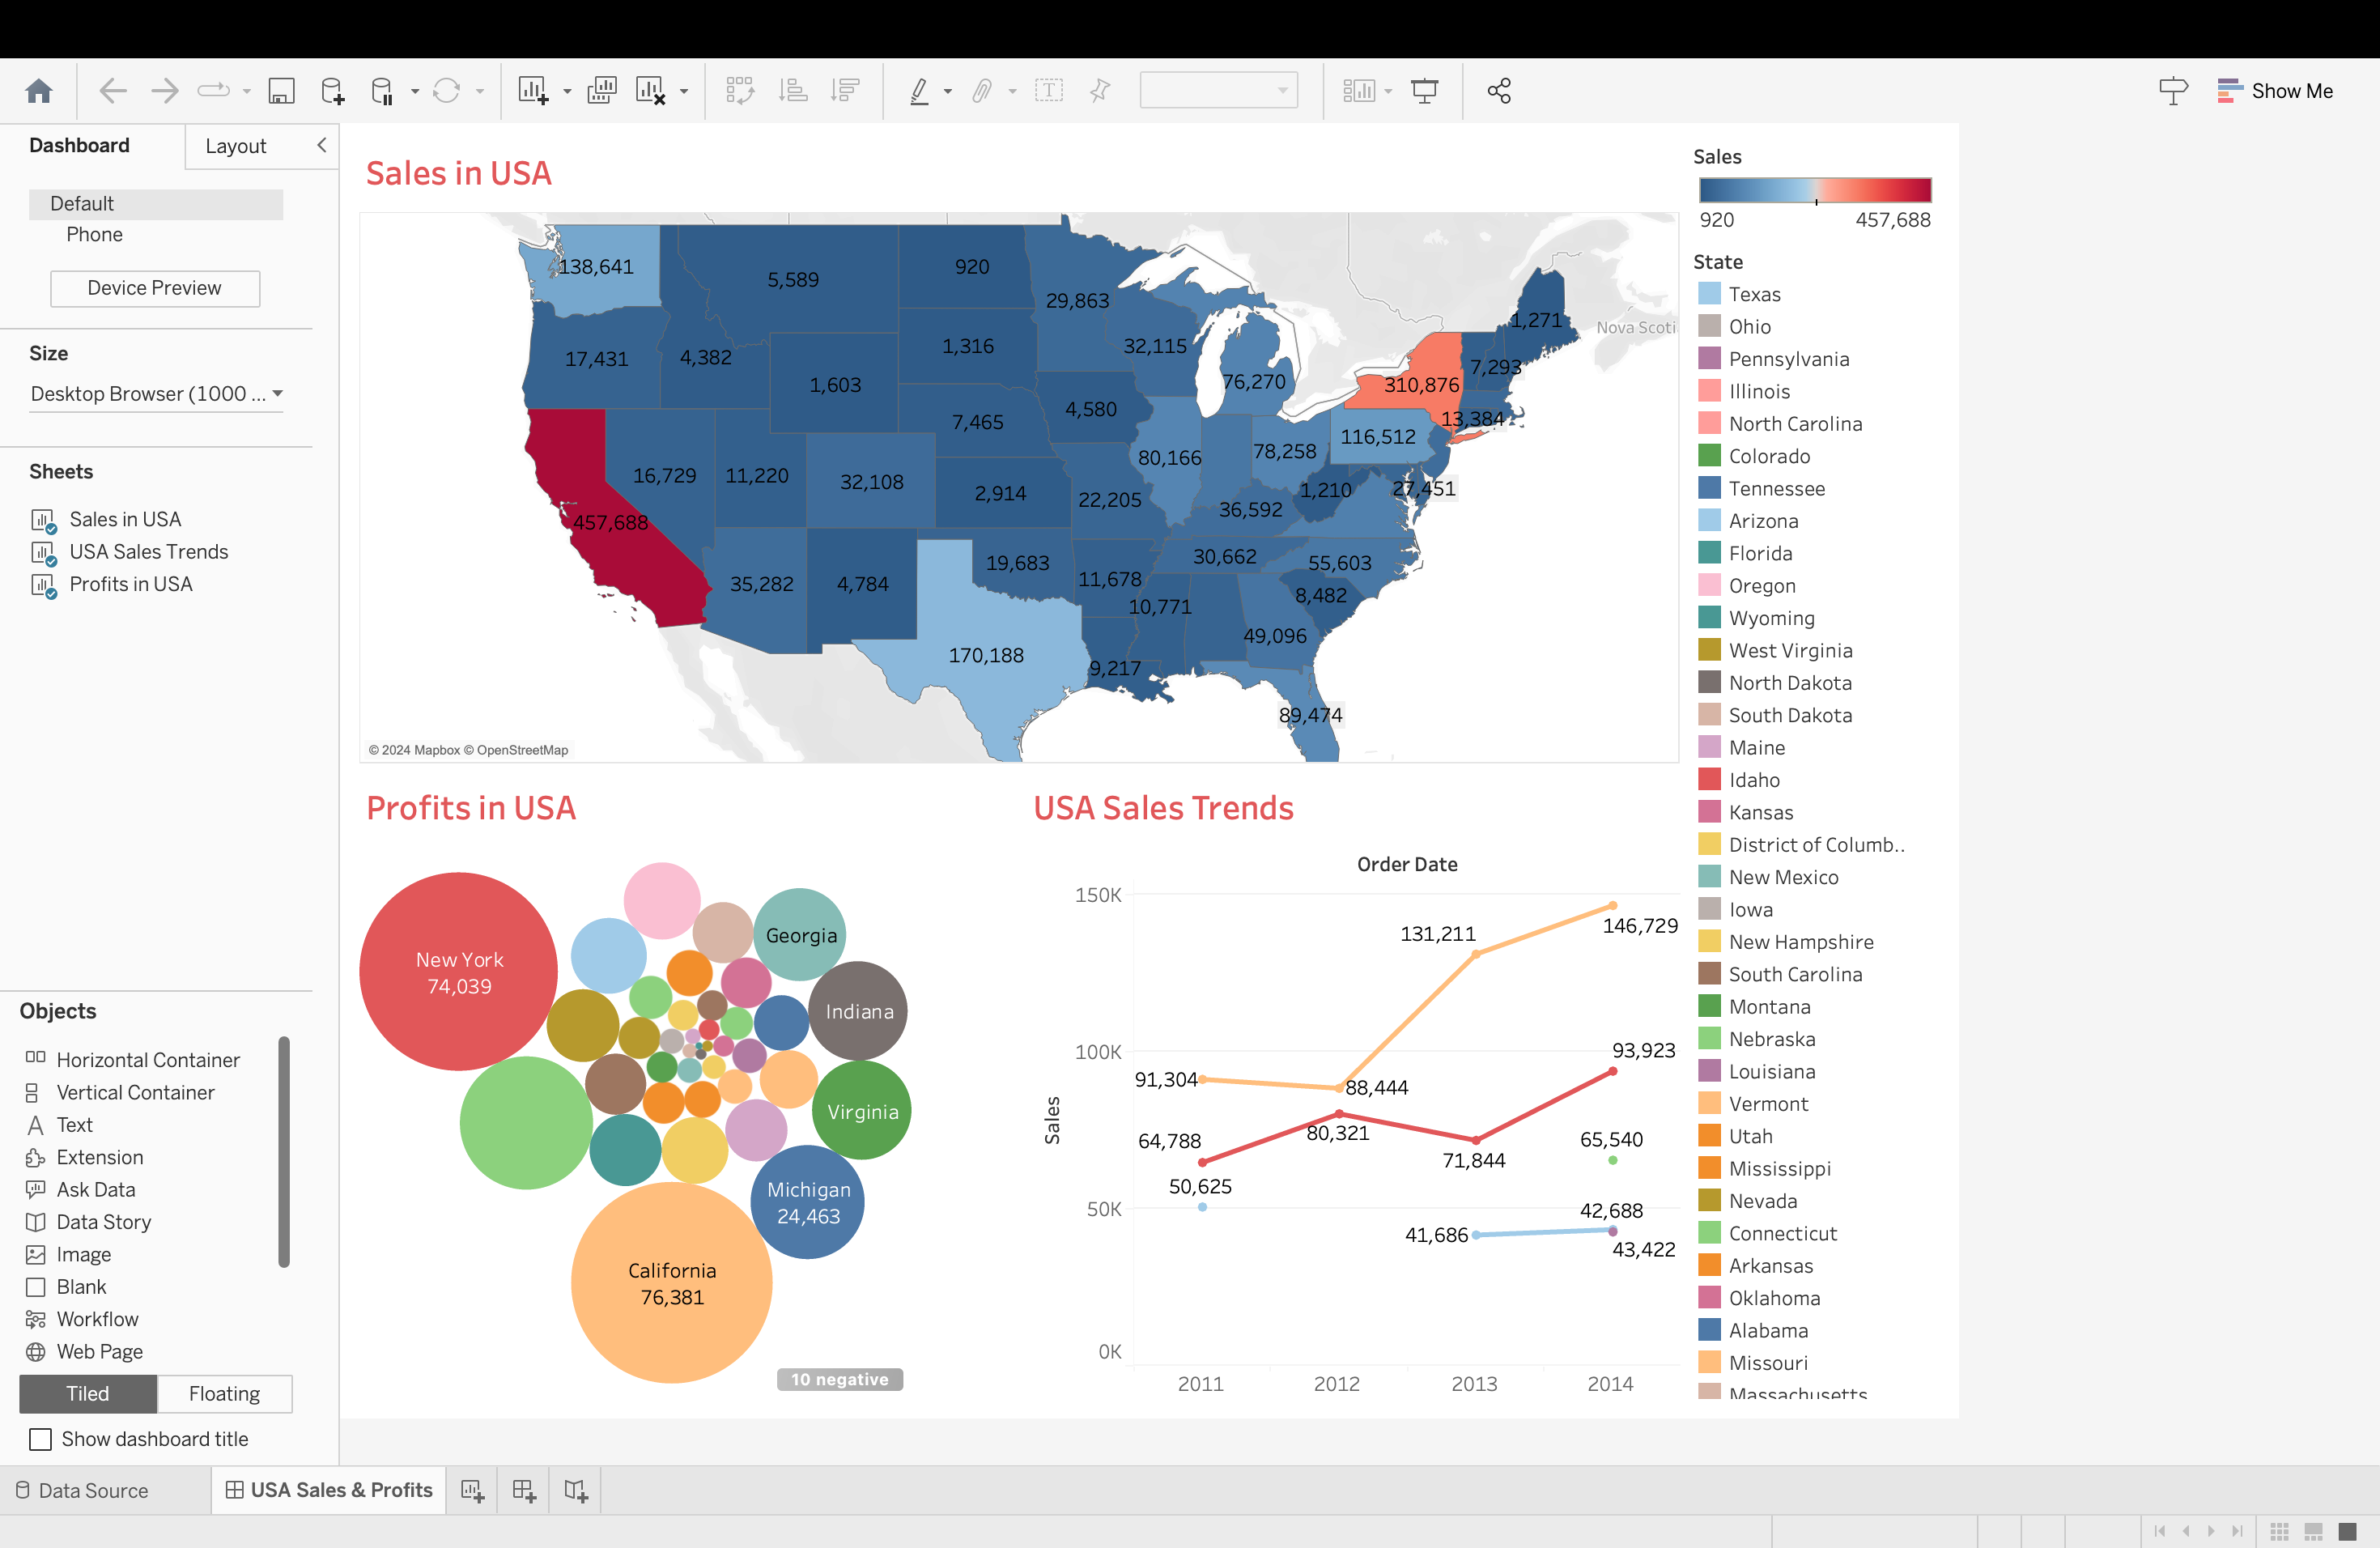

The page's visual inventory and layout, read from the dashboard file:
{"tool":"tableau","page":{"name":"USA Sales & Profits","canvas":[1000,800],"ordinal":0},"visuals":[{"type":"worksheet","title":"Sales in USA","mark":"Multipolygon","box":[8,8,824,392]},{"type":"legend","title":"Sales in USA","param":"[federated.144c5sn1r888e11a5exyr1ecrhy2].[sum:Sales:qk]","box":[832,8,160,65]},{"type":"legend","title":"Profits in USA","param":"[federated.144c5sn1r888e11a5exyr1ecrhy2].[none:State:nk]","box":[832,73,160,719]},{"type":"worksheet","title":"Profits in USA","mark":"Circle","box":[8,400,412,392]},{"type":"worksheet","title":"USA Sales Trends","mark":"Automatic","rows":["Sales"],"cols":["Order Date"],"box":[420,400,412,392]}]}

Visuals, with their boxes on the page's 1000x800 design canvas (x1, y1, x2, y2). These are canvas units, not pixel positions in the 2380x1548 screenshot, which may show the page scaled, cropped or inside an application window:
"Sales in USA" worksheet (Multipolygon marks): x1=8, y1=8, x2=832, y2=400
"Sales in USA" legend: x1=832, y1=8, x2=992, y2=73
"Profits in USA" legend: x1=832, y1=73, x2=992, y2=792
"Profits in USA" worksheet (Circle marks): x1=8, y1=400, x2=420, y2=792
"USA Sales Trends" worksheet: x1=420, y1=400, x2=832, y2=792
